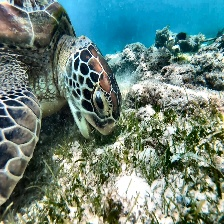seaturtle: (0, 0, 122, 180)
